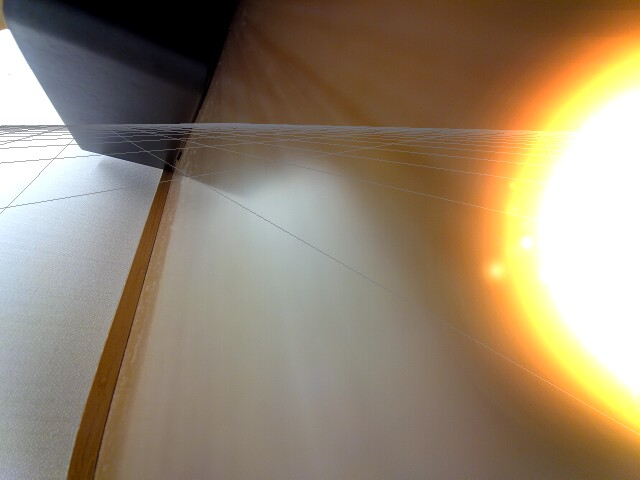firebig: (476, 31, 640, 437)
